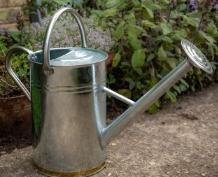ARROSOIR: (4, 4, 217, 177)
